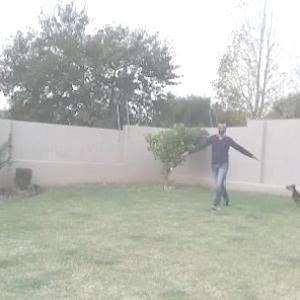land: (174, 113, 252, 205)
